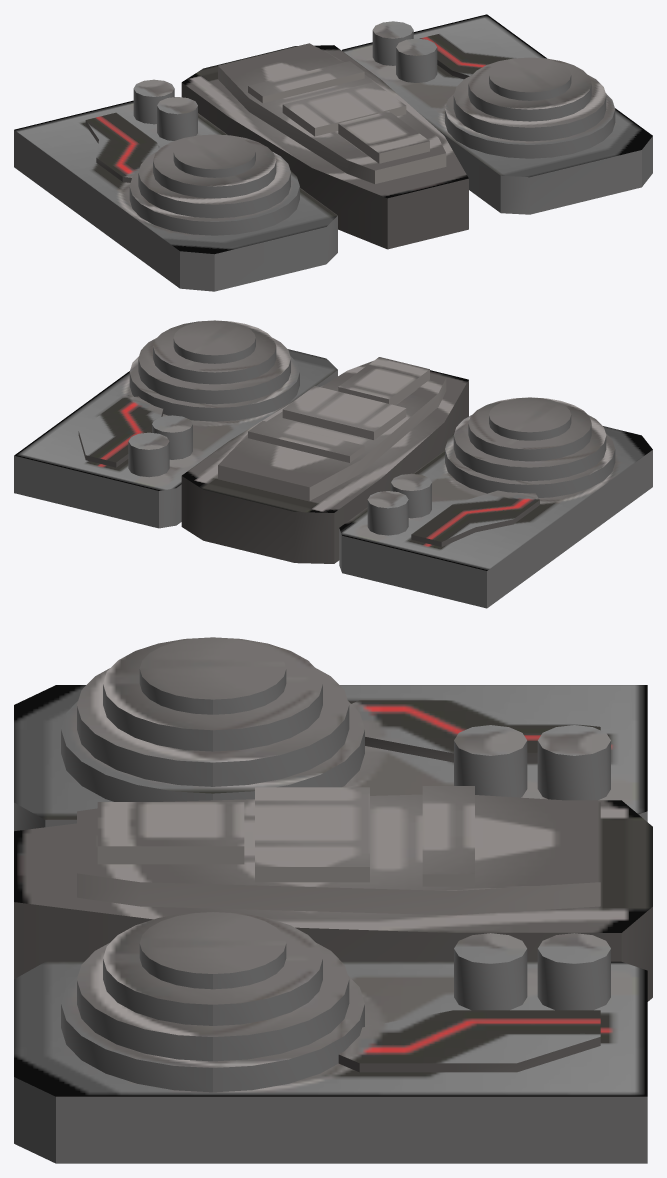
The model's file is Building_SubcoreSoftscanner.obj.
The picture shows the model from 3 angles, top to bottom: view 1: azimuth 30°, elevation 25°; view 2: azimuth 150°, elevation 25°; view 3: azimuth 270°, elevation 25°; orthographic projection. The views are drawn at different scales.
Parts seen in each view (by area): view 1: Body; view 2: Body; view 3: Body.
Part boxes in pixels (x1=…): Body: x1=14, y1=14, x2=652, y2=291; Body: x1=14, y1=320, x2=652, y2=608; Body: x1=14, y1=637, x2=652, y2=1163.
Bounding box in the file's own units: 2.91 × 0.5 × 1.91.
1 material, 1 textured.
